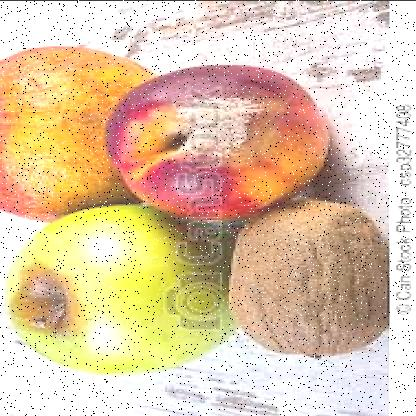damaged_apple: (13, 208, 222, 372), (110, 50, 312, 212), (0, 46, 156, 226), (233, 199, 388, 355)
